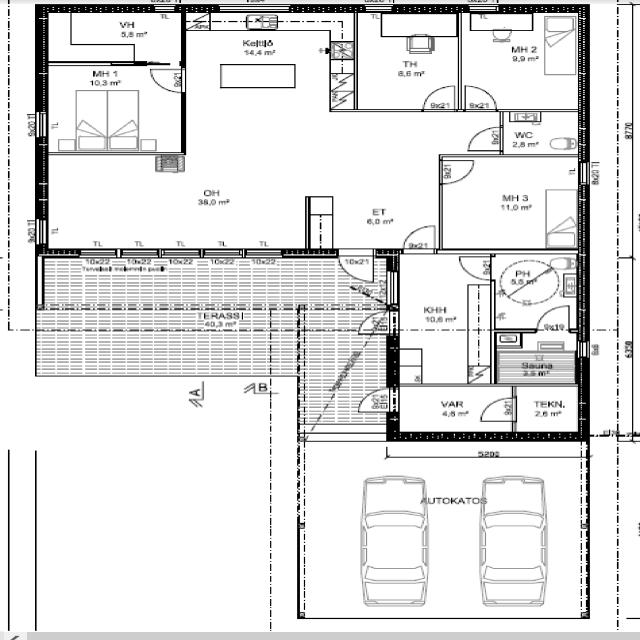door: (336, 250, 375, 284), (400, 222, 438, 252), (146, 63, 184, 93), (534, 303, 574, 331), (456, 252, 494, 281), (477, 396, 517, 423), (464, 125, 504, 152), (461, 83, 499, 111), (356, 387, 394, 414), (440, 156, 476, 184), (421, 83, 457, 110), (490, 26, 512, 42)
window: (212, 3, 286, 15), (433, 188, 448, 240), (241, 246, 286, 260), (384, 268, 400, 306), (30, 108, 48, 140), (464, 2, 504, 14), (159, 247, 202, 258), (199, 248, 246, 258), (77, 247, 118, 258), (576, 158, 591, 187), (34, 219, 50, 246), (574, 340, 593, 360), (361, 2, 395, 13)
zone: (175, 12, 356, 250), (392, 252, 491, 389), (440, 155, 582, 250), (44, 152, 178, 251), (38, 63, 184, 152), (459, 16, 582, 111), (349, 14, 460, 112), (40, 12, 186, 63), (392, 377, 516, 437), (494, 253, 580, 329), (493, 331, 581, 385), (499, 109, 582, 156), (511, 384, 583, 437)
